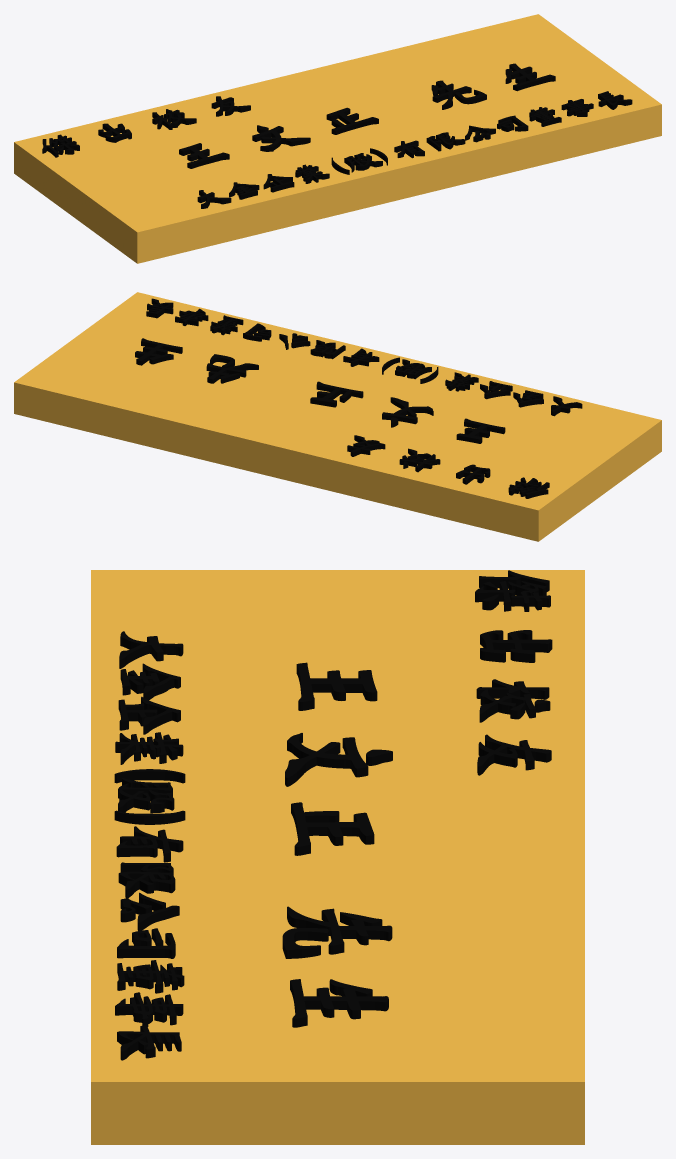
Rendered from 傑出校友-王文正.FBX.
3 renders of one model, top to bottom at view 1: azimuth 30°, elevation 25°; view 2: azimuth 150°, elevation 25°; view 3: azimuth 270°, elevation 25°, orthographic. The views are drawn at different scales.
Visible parts, largest first — view 1: Box002, Text035, Text034, Text033; view 2: Box002, Text035, Text034, Text033; view 3: Box002, Text035, Text034, Text033.
Boxes of the visible parts, box(x1,y1,x2,y2) form: Box002: box(14, 14, 661, 263); Text035: box(197, 91, 632, 208); Text034: box(179, 63, 555, 168); Text033: box(42, 96, 250, 157); Box002: box(14, 292, 661, 541); Text035: box(146, 298, 582, 416); Text034: box(135, 338, 505, 443); Text033: box(347, 435, 549, 498); Box002: box(91, 570, 584, 1144); Text035: box(114, 631, 185, 1060); Text034: box(282, 662, 392, 1027); Text033: box(475, 570, 552, 775).
Bounding box in the file's own units: 469 × 30.66 × 191.
